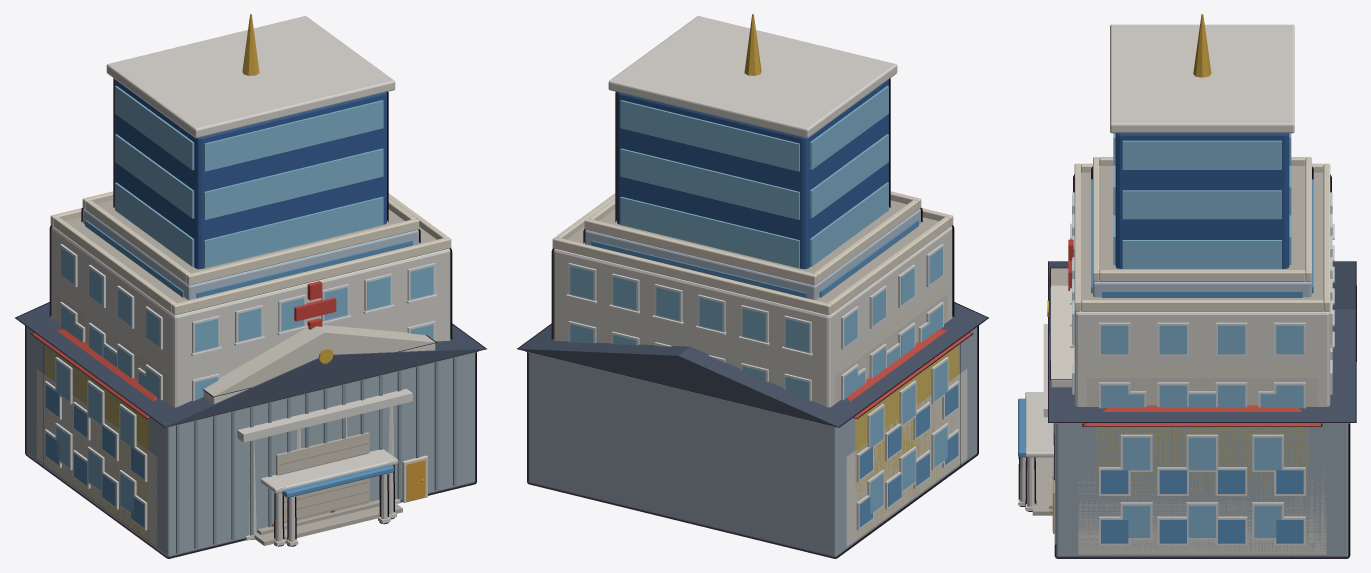
File: buildings.glb
3 views of the same model, side by side, from view 1: azimuth 30°, elevation 25°; view 2: azimuth 150°, elevation 25°; view 3: azimuth 270°, elevation 25° (orthographic). The views are drawn at different scales.
Visible parts, largest first — view 1: bld_HQ, bld_WAREHOUSE, bld_HOSPITAL, bld_OFFICE, bld_SCHOOL, bld_CIVIC, bld_BANK; view 2: bld_HQ, bld_WAREHOUSE, bld_HOSPITAL, bld_OFFICE, bld_SCHOOL, bld_CIVIC; view 3: bld_HQ, bld_WAREHOUSE, bld_HOSPITAL, bld_SCHOOL, bld_OFFICE, bld_CIVIC, bld_BANK.
Part boxes in pixels (left/top/right/bottom): bld_HQ: left=36, top=14, right=398, bottom=551; bld_WAREHOUSE: left=15, top=302, right=486, bottom=558; bld_HOSPITAL: left=49, top=193, right=452, bottom=546; bld_OFFICE: left=81, top=191, right=420, bottom=299; bld_SCHOOL: left=30, top=329, right=157, bottom=544; bld_CIVIC: left=55, top=281, right=412, bottom=545; bld_BANK: left=203, top=325, right=436, bottom=403; bld_HQ: left=608, top=14, right=967, bottom=551; bld_WAREHOUSE: left=517, top=302, right=988, bottom=558; bld_HOSPITAL: left=551, top=193, right=954, bottom=407; bld_OFFICE: left=583, top=191, right=922, bottom=299; bld_SCHOOL: left=846, top=329, right=973, bottom=544; bld_CIVIC: left=834, top=283, right=947, bottom=403; bld_HQ: left=1025, top=14, right=1328, bottom=557; bld_WAREHOUSE: left=1048, top=261, right=1356, bottom=558; bld_HOSPITAL: left=1018, top=163, right=1334, bottom=506; bld_SCHOOL: left=1082, top=405, right=1322, bottom=558; bld_OFFICE: left=1091, top=157, right=1313, bottom=297; bld_CIVIC: left=1032, top=324, right=1319, bottom=515; bld_BANK: left=1047, top=267, right=1074, bottom=387.
Size of the model in its own units: 21.14 by 28.3 by 18.57.
